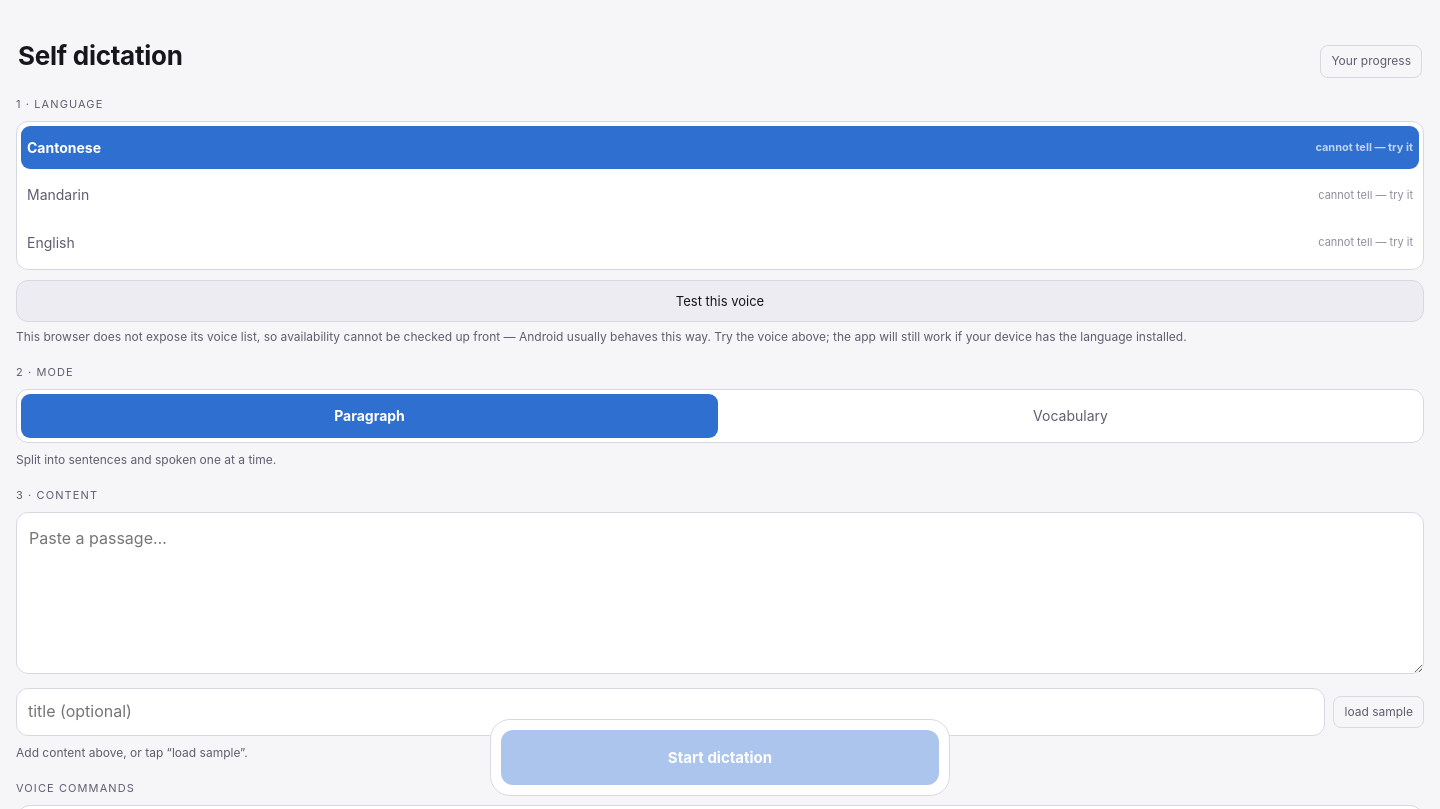
Setup › says the browser refused when speech failed outright
The width and height of the screenshot is (1440, 809).
Click the button "Test this voice".
click(720, 301)  # box top-left (16, 280), bottom-right (1424, 322)
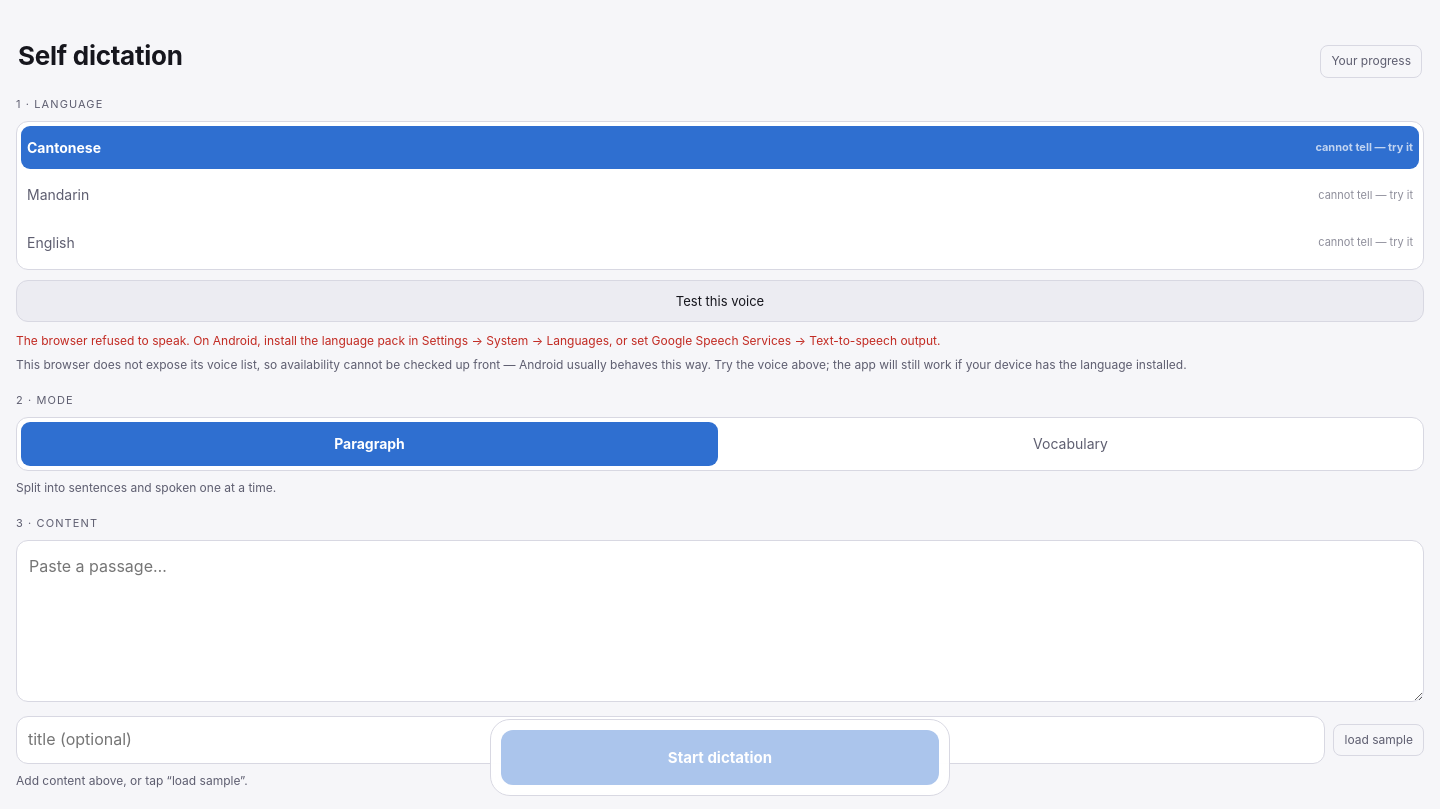
Expected: the text "refused to speak" is shown, top-left (16, 333), bottom-right (940, 348)
